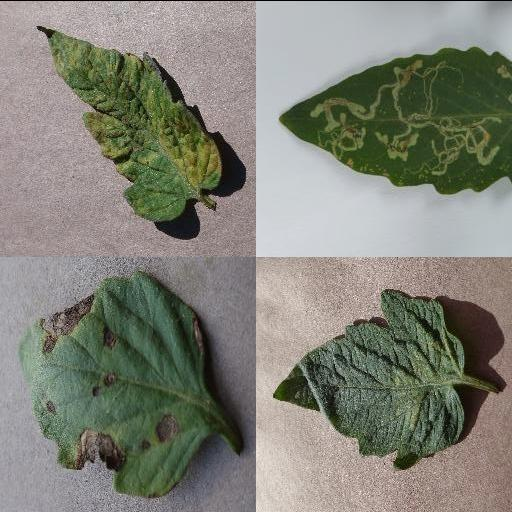Early Blight: (17, 270, 213, 496)
Leaf Miner: (278, 44, 510, 196)
Leaf Mold: (34, 24, 222, 222)
Spider Mites: (271, 289, 465, 469)
